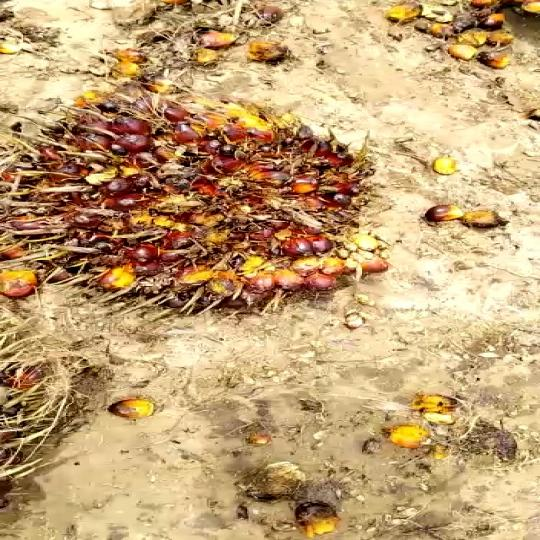masak: (0, 83, 393, 333)
